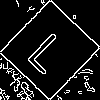L: (24, 24, 77, 76)
